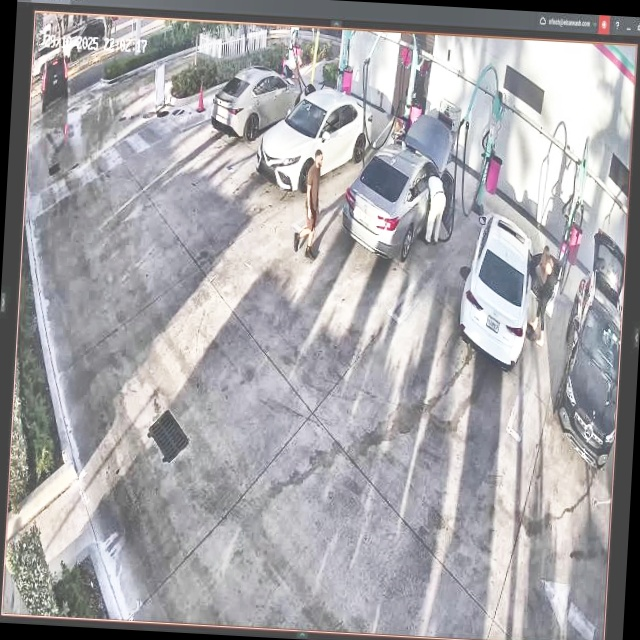Car: (340, 112, 459, 261), (457, 210, 564, 370), (261, 87, 375, 191), (209, 62, 306, 143)
